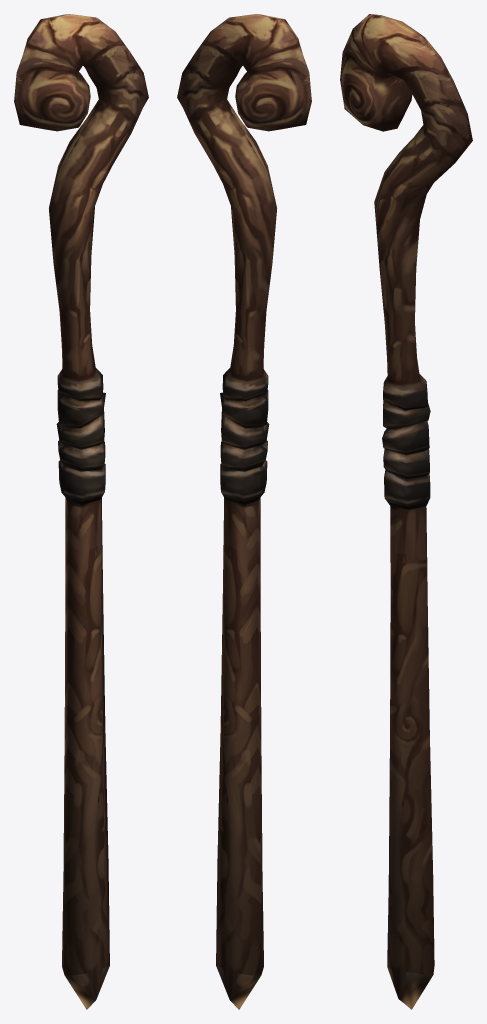
The model's file is W_Staff_1.fbx.
3 views of the same model, side by side, from view 1: azimuth 30°, elevation 25°; view 2: azimuth 150°, elevation 25°; view 3: azimuth 330°, elevation 25° (orthographic).
Visible parts, largest first — view 1: W_Staff_1_LOD0; view 2: W_Staff_1_LOD0; view 3: W_Staff_1_LOD0.
Boxes of the visible parts, x1,y1,x2,y2 form: W_Staff_1_LOD0: (14, 14, 148, 1009); W_Staff_1_LOD0: (177, 14, 311, 1009); W_Staff_1_LOD0: (340, 14, 472, 1009).
Size of what is drawn, in the model's own units: 0.2711 by 1.92 by 0.1397.
